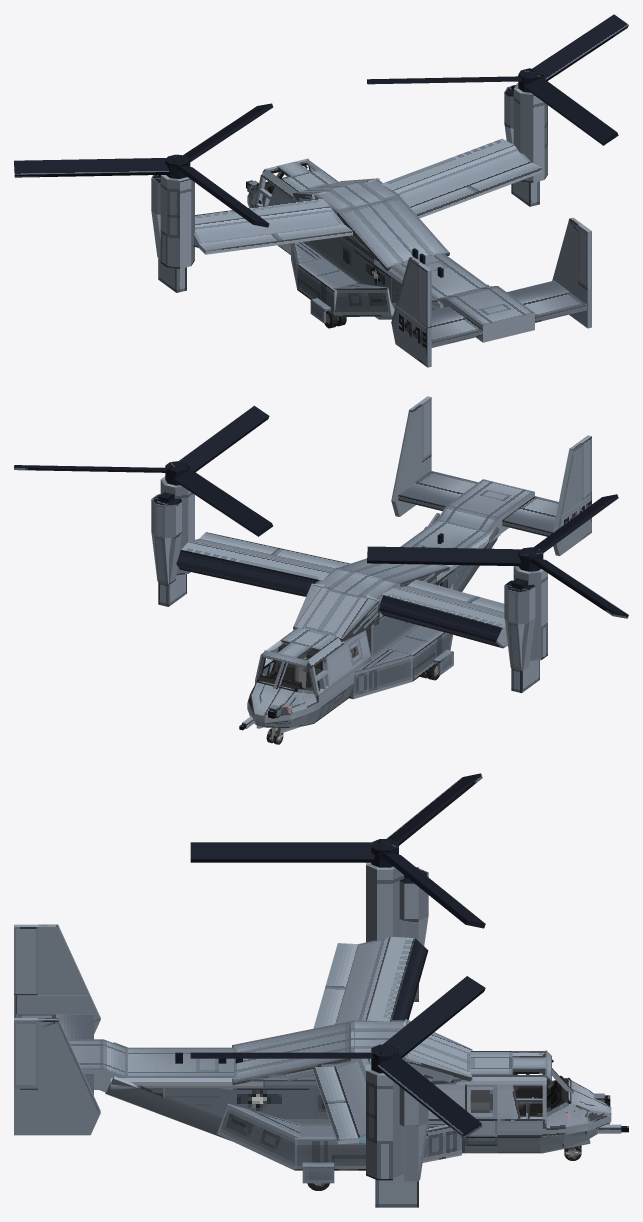
3 renders of one model, top to bottom at view 1: azimuth 30°, elevation 25°; view 2: azimuth 150°, elevation 25°; view 3: azimuth 270°, elevation 25°, orthographic. The views are drawn at different scales.
Visible parts, largest first — view 1: cube (×37); view 2: cube (×42); view 3: cube (×50).
Boxes of the visible parts, x1,y1,x2,y2 form: cube (×37): (14, 14, 628, 356); cube (×42): (14, 396, 628, 708); cube (×50): (14, 773, 546, 1207).
Size of the model in its own units: 28.09 by 7.75 by 20.41.
Materials: 1 (1 with a texture image).
